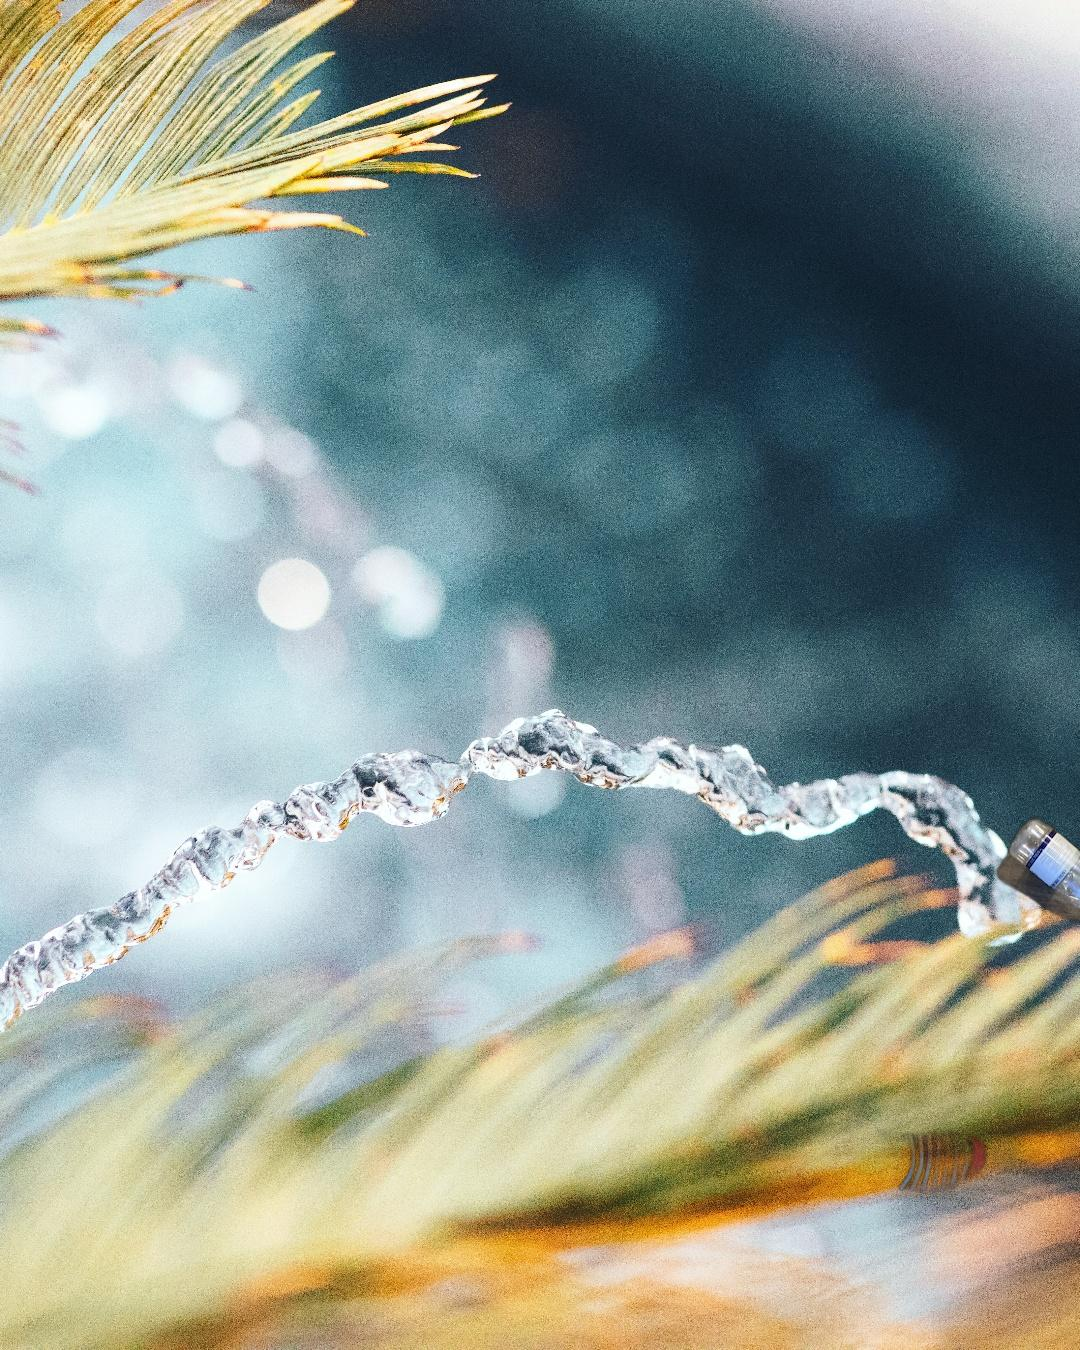plastic-bottles: (875, 813, 1080, 1216)
